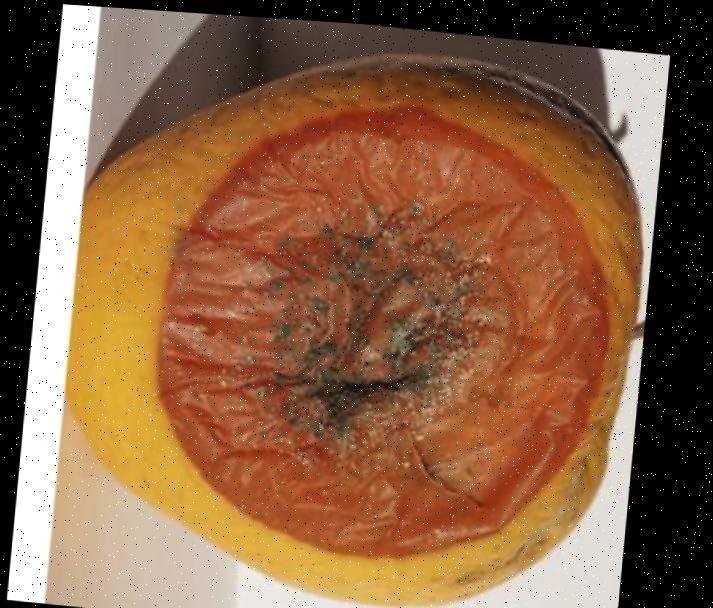ROT: (65, 10, 659, 608)
